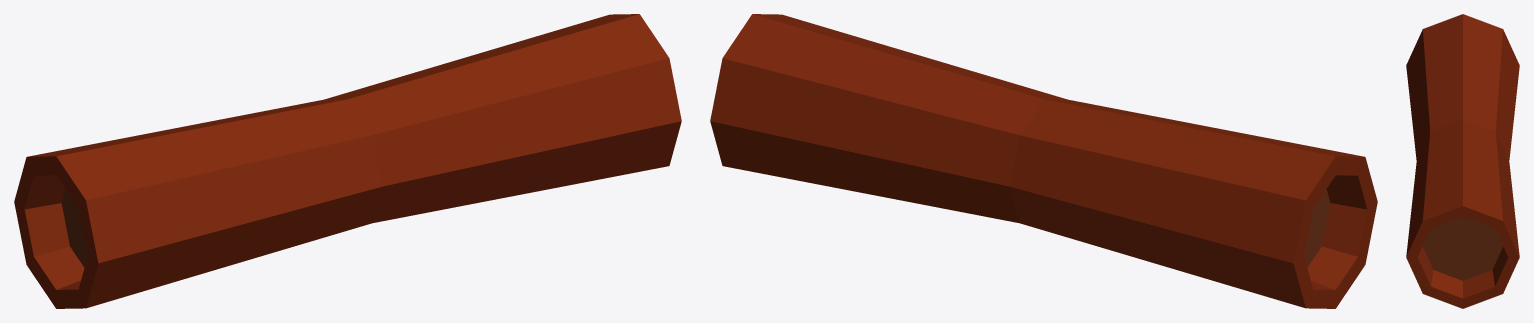
File: Log.obj
3 views of the same model, side by side, from view 1: azimuth 30°, elevation 25°; view 2: azimuth 150°, elevation 25°; view 3: azimuth 270°, elevation 25° (orthographic). The views are drawn at different scales.
Visible parts, largest first — view 1: Log; view 2: Log; view 3: Log.
Part boxes in pixels (x1=…): Log: x1=14, y1=14, x2=681, y2=308; Log: x1=710, y1=14, x2=1377, y2=308; Log: x1=1406, y1=14, x2=1519, y2=308.
Bounding box in the file's own units: 4 × 1 × 1.
